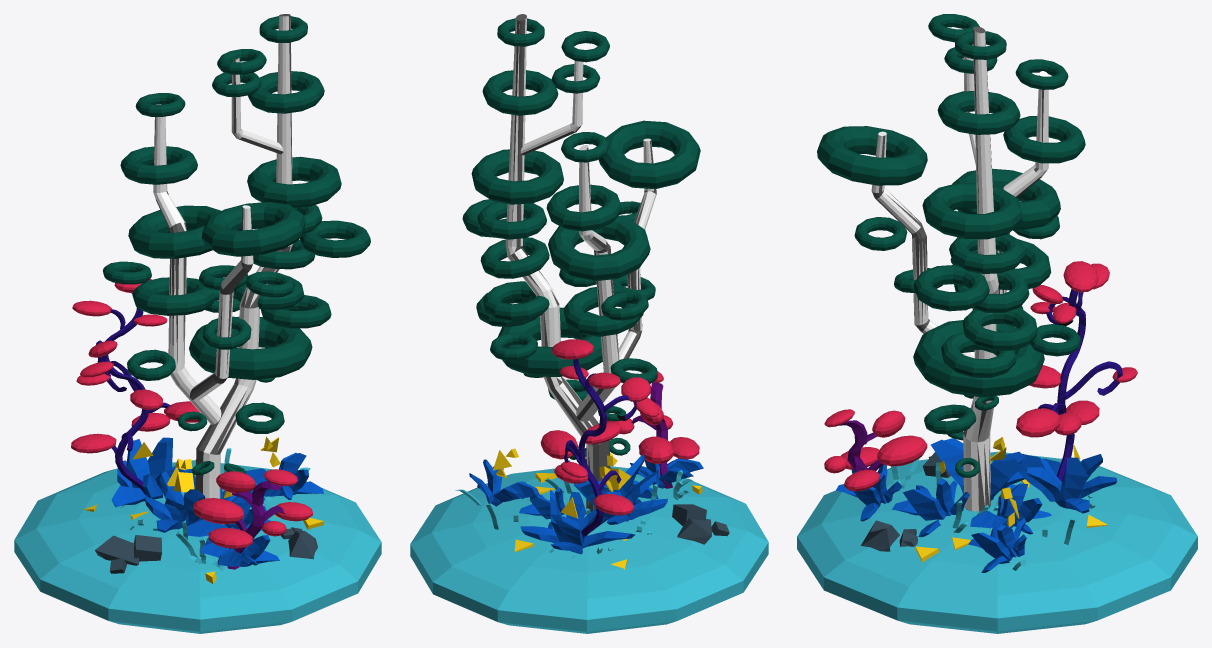
3 renders of one model, left to right at view 1: azimuth 30°, elevation 25°; view 2: azimuth 150°, elevation 25°; view 3: azimuth 270°, elevation 25°, orthographic. The views are drawn at different scales.
Parts seen in each view (by area): view 1: group1862346398, group1611925300, group1673951575, group1469496402, group490427736, group1028463325, group1441540953, group1853281085, group602178960, group1051102918, group540475379, group1721943079 (+26 smaller); view 2: group1862346398, group1611925300, group1469496402, group1853281085, group1441540953, group490427736, group1028463325, group602178960, group1673951575, group1721943079, group478944397, group352203744 (+25 smaller); view 3: group1862346398, group1611925300, group1469496402, group490427736, group1673951575, group1441540953, group602178960, group1721943079, group478944397, group1995283381, group1051102918, group312409048 (+22 smaller).
Boxes of the visible parts, bbox=[...] form: group1862346398: bbox=[14, 460, 381, 633]; group1611925300: bbox=[195, 14, 292, 498]; group1673951575: bbox=[193, 469, 312, 569]; group1469496402: bbox=[201, 202, 305, 256]; group490427736: bbox=[189, 316, 312, 379]; group1028463325: bbox=[153, 104, 221, 424]; group1441540953: bbox=[247, 156, 341, 207]; group1853281085: bbox=[128, 205, 221, 258]; group602178960: bbox=[111, 437, 183, 507]; group1051102918: bbox=[189, 205, 253, 400]; group540475379: bbox=[132, 277, 214, 315]; group1721943079: bbox=[120, 146, 197, 184]; group1862346398: bbox=[410, 466, 768, 633]; group1611925300: bbox=[505, 14, 610, 511]; group1469496402: bbox=[598, 120, 700, 189]; group1853281085: bbox=[548, 215, 650, 281]; group1441540953: bbox=[471, 149, 563, 204]; group490427736: bbox=[497, 307, 602, 376]; group1028463325: bbox=[576, 145, 619, 421]; group602178960: bbox=[520, 489, 635, 554]; group1673951575: bbox=[606, 371, 699, 488]; group1721943079: bbox=[546, 184, 621, 231]; group478944397: bbox=[482, 70, 558, 115]; group352203744: bbox=[564, 359, 636, 537]; group1862346398: bbox=[797, 451, 1197, 633]; group1611925300: bbox=[963, 26, 998, 511]; group1469496402: bbox=[817, 126, 927, 185]; group490427736: bbox=[913, 320, 1044, 397]; group1673951575: bbox=[824, 409, 927, 491]; group1441540953: bbox=[922, 183, 1023, 239]; group602178960: bbox=[1018, 454, 1117, 513]; group1721943079: bbox=[1003, 116, 1085, 163]; group478944397: bbox=[937, 91, 1020, 134]; group1995283381: bbox=[913, 265, 989, 311]; group1051102918: bbox=[871, 131, 974, 358]; group312409048: bbox=[962, 308, 1037, 350].
Bounding box in the file's own units: 1.82 × 3.07 × 1.88.
